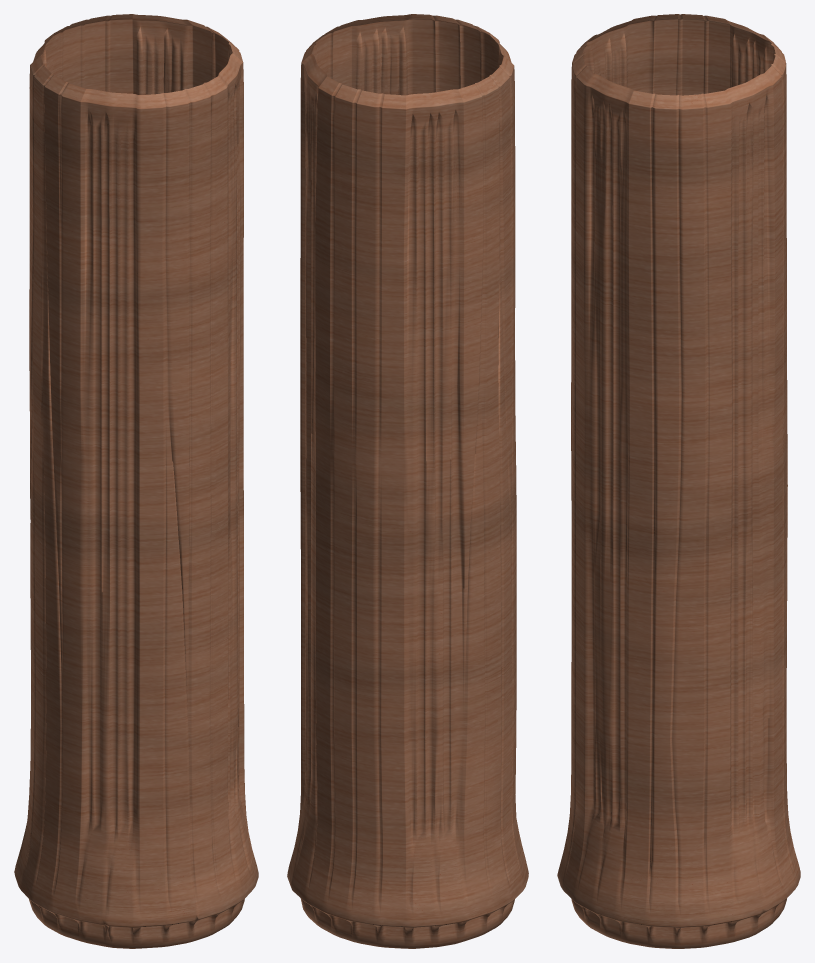
File: Geonosis_Pillar01.fbx
3 views of the same model, side by side, from view 1: azimuth 30°, elevation 25°; view 2: azimuth 150°, elevation 25°; view 3: azimuth 270°, elevation 25° (orthographic).
Visible parts, largest first — view 1: Geonosis_Pillar01; view 2: Geonosis_Pillar01; view 3: Geonosis_Pillar01.
Boxes of the visible parts, x1=… form: Geonosis_Pillar01: x1=14, y1=14, x2=258, y2=948; Geonosis_Pillar01: x1=287, y1=14, x2=528, y2=948; Geonosis_Pillar01: x1=557, y1=14, x2=800, y2=948.
Size of the model in its own units: 290 by 1125 by 290.
